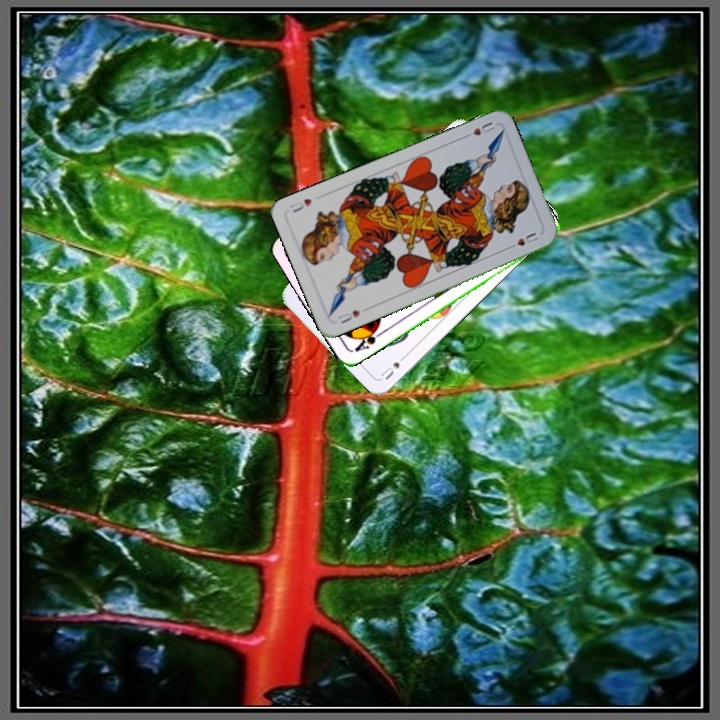HU: (459, 118, 497, 141), (334, 306, 363, 326)
SA: (350, 322, 386, 355)
SU: (377, 350, 410, 383)
